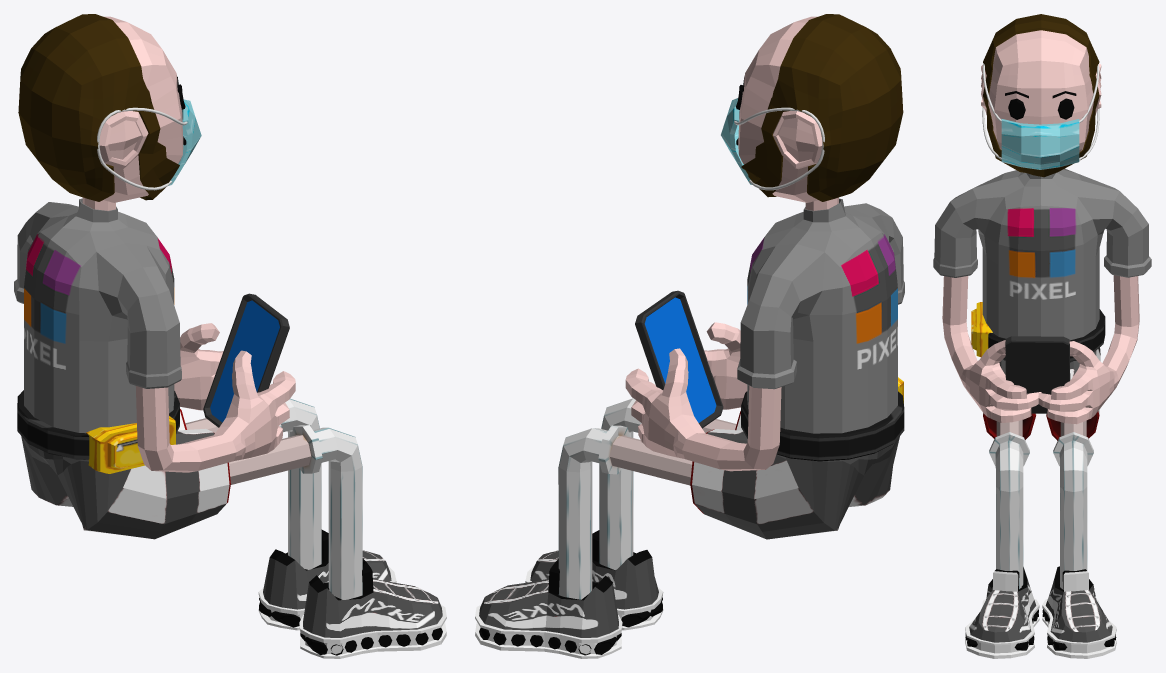
The model's file is Alvaro1.fbx.
3 renders of one model, left to right at view 1: azimuth 30°, elevation 25°; view 2: azimuth 150°, elevation 25°; view 3: azimuth 270°, elevation 25°, orthographic. The views are drawn at different scales.
Visible parts, largest first — view 1: Camisa_Cube.002, Cabeca.001, Calca, Tenis_Jack_D, Mao_E.001_Cube.019, Perna_E.001, Cabeca, Perna_E, Tenis_Jack_E, Plane, Mao_E.001_Cube.001, Pochete_bolsa (+4 smaller); view 2: Camisa_Cube.002, Cabeca.001, Calca, Tenis_Jack_E, Mao_E.001_Cube.001, Perna_E, Cabeca, Perna_E.001, Tenis_Jack_D, Pochete_Alca, Plane, Mao_E.001_Cube.019 (+3 smaller); view 3: Camisa_Cube.002, Cabeca, Mao_E.001_Cube.001, Mao_E.001_Cube.019, Tenis_Jack_E, Tenis_Jack_D, Perna_E.001, Perna_E, Cube, Mascara, Cabeca.001, Calca (+4 smaller).
Boxes of the visible parts, bbox=[...] form: Camisa_Cube.002: bbox=[14, 198, 181, 433]; Cabeca.001: bbox=[18, 14, 179, 201]; Calca: bbox=[21, 409, 230, 539]; Tenis_Jack_D: bbox=[299, 558, 446, 658]; Mao_E.001_Cube.019: bbox=[135, 350, 295, 472]; Perna_E.001: bbox=[229, 425, 362, 599]; Cabeca: bbox=[99, 16, 183, 202]; Perna_E: bbox=[185, 398, 321, 569]; Tenis_Jack_E: bbox=[258, 529, 396, 630]; Plane: bbox=[210, 300, 279, 422]; Mao_E.001_Cube.001: bbox=[174, 323, 223, 410]; Pochete_bolsa: bbox=[86, 416, 175, 473]; Camisa_Cube.002: bbox=[737, 198, 904, 433]; Cabeca.001: bbox=[741, 14, 903, 201]; Calca: bbox=[690, 411, 899, 539]; Tenis_Jack_E: bbox=[475, 559, 622, 658]; Mao_E.001_Cube.001: bbox=[625, 348, 781, 471]; Perna_E: bbox=[558, 425, 692, 599]; Cabeca: bbox=[738, 16, 822, 202]; Perna_E.001: bbox=[599, 398, 736, 570]; Tenis_Jack_D: bbox=[525, 530, 663, 630]; Pochete_Alca: bbox=[741, 391, 904, 461]; Plane: bbox=[644, 297, 716, 422]; Mao_E.001_Cube.019: bbox=[704, 322, 747, 409]; Camisa_Cube.002: bbox=[933, 168, 1151, 340]; Cabeca: bbox=[981, 30, 1101, 152]; Mao_E.001_Cube.001: bbox=[1038, 275, 1139, 424]; Mao_E.001_Cube.019: bbox=[942, 276, 1041, 422]; Tenis_Jack_E: bbox=[1042, 566, 1116, 658]; Tenis_Jack_D: bbox=[965, 567, 1039, 658]; Perna_E.001: bbox=[989, 420, 1029, 589]; Perna_E: bbox=[1053, 420, 1093, 589]; Cube: bbox=[1005, 336, 1070, 413]; Mascara: bbox=[1001, 119, 1079, 169]; Cabeca.001: bbox=[983, 14, 1099, 177]; Calca: bbox=[983, 347, 1100, 440].
Size of the model in its own units: 236 by 385 by 147.
